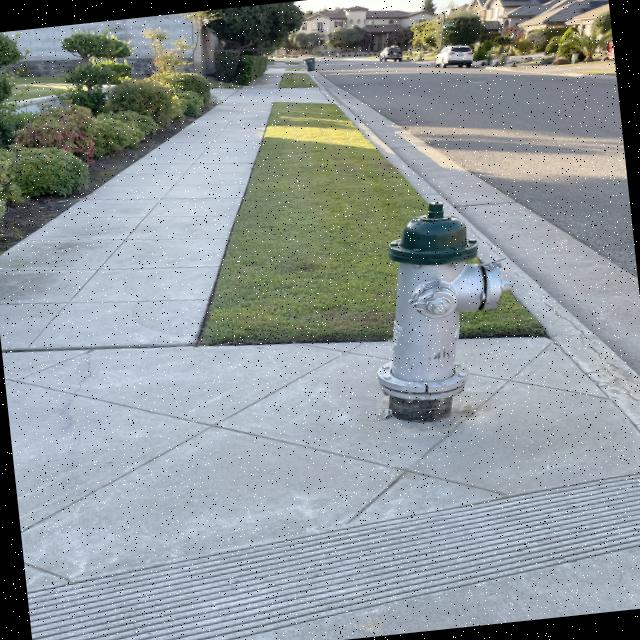curb: (524, 307, 640, 437), (335, 91, 433, 196), (317, 72, 359, 118)
road: (474, 92, 630, 259), (392, 73, 616, 148), (335, 48, 470, 102)
walkway: (4, 336, 202, 489), (15, 232, 192, 353), (61, 196, 228, 268), (121, 160, 244, 227), (162, 132, 255, 184), (217, 88, 266, 142)
walkway-edge: (177, 106, 284, 356), (193, 308, 393, 374)
